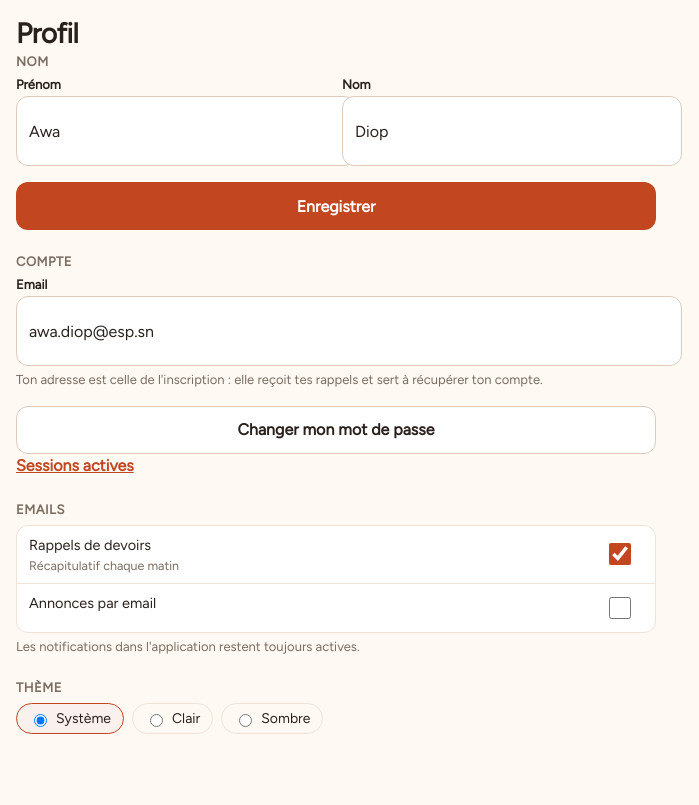
Scenario: profil (P10, M14) › erreur serveur : message affiché et contenu conservé
Expected: the heading "Profil" is shown, x1=16 y1=16 x2=78 y2=50
Replace the text in the field labelled "Prénom" with "Awaïcha": (186, 131) x1=16 y1=96 x2=356 y2=166
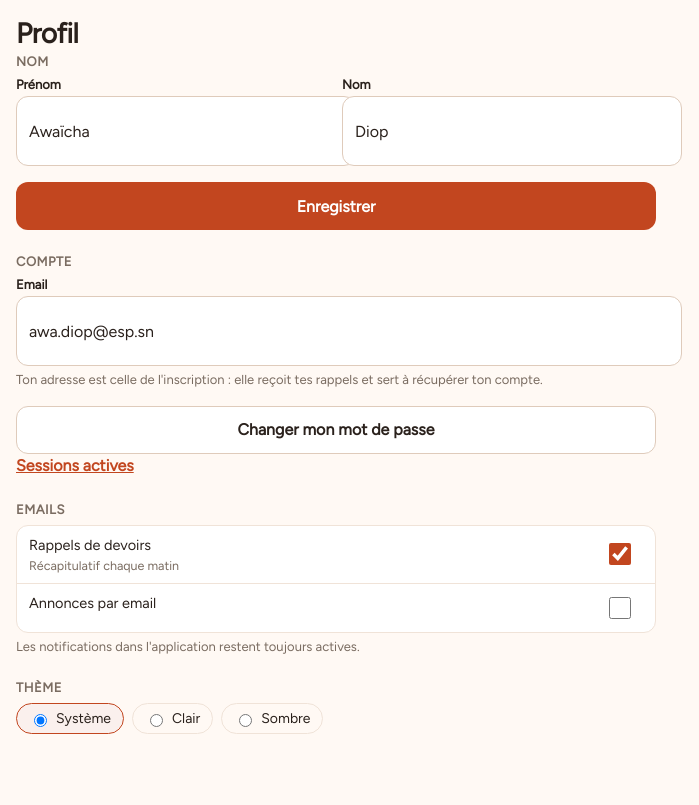
Click the button "Enregistrer": (336, 206) x1=16 y1=182 x2=656 y2=230
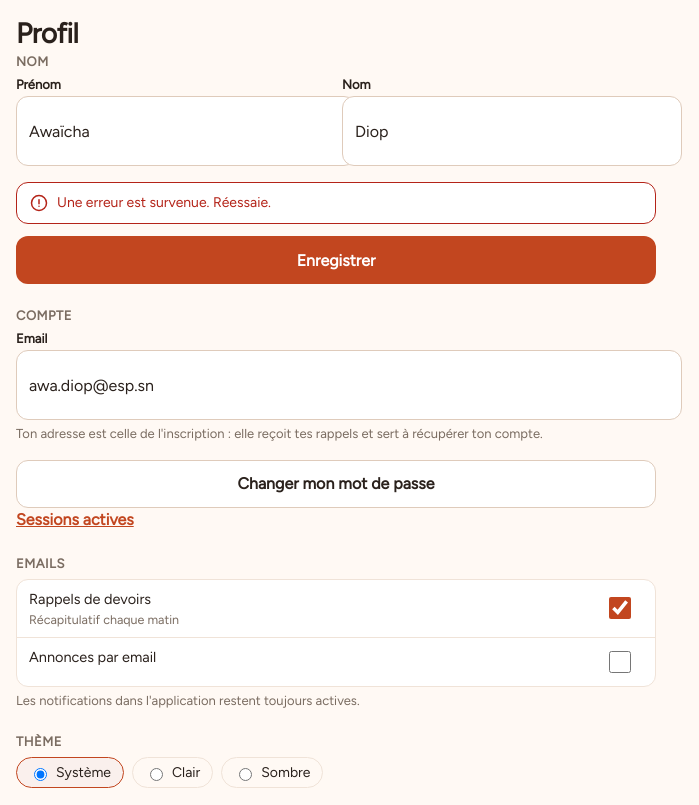
Now the message reads "Une erreur est survenue. Réessaie.", box x1=57 y1=194 x2=271 y2=211
